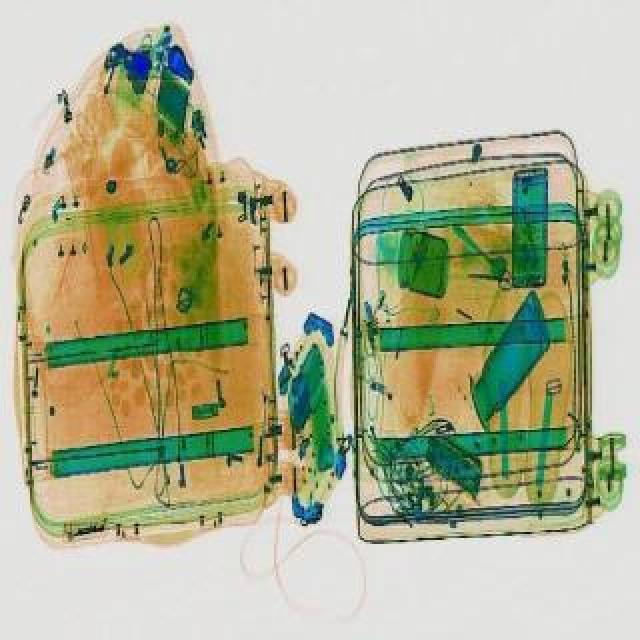pliers: (466, 264, 514, 288)
